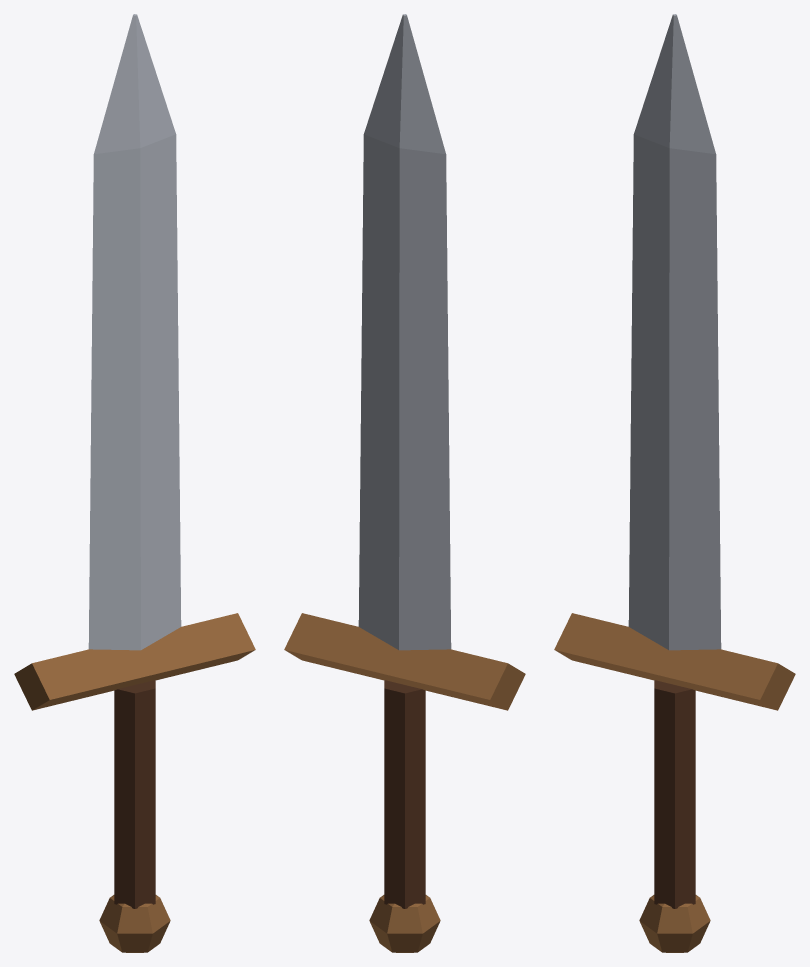
Rendered from sword.glb.
3 views of the same model, side by side, from view 1: azimuth 30°, elevation 25°; view 2: azimuth 150°, elevation 25°; view 3: azimuth 330°, elevation 25° (orthographic).
Visible parts, largest first — view 1: sword; view 2: sword; view 3: sword.
Boxes of the visible parts, x1,y1,x2,y2 form: sword: (14, 14, 255, 952); sword: (284, 14, 525, 952); sword: (554, 14, 795, 952).
Size of the model in its own units: 0.2 by 0.87 by 0.06.
